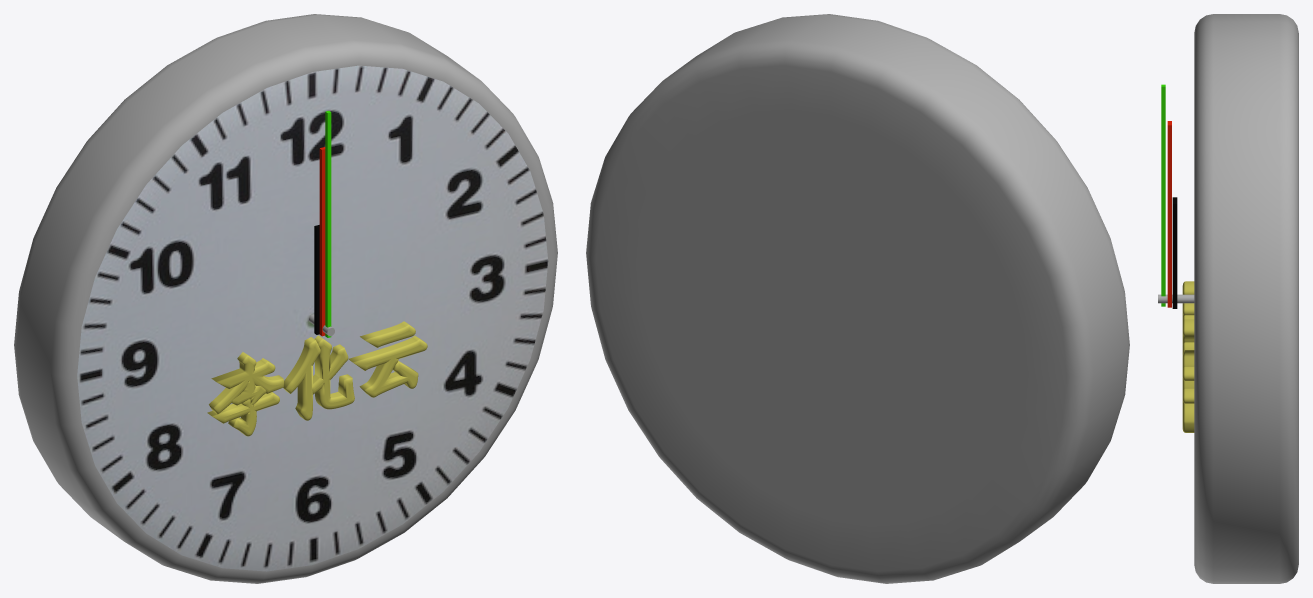
The model's file is naozhong.glb.
The picture shows the model from 3 angles, left to right: view 1: azimuth 30°, elevation 25°; view 2: azimuth 150°, elevation 25°; view 3: azimuth 270°, elevation 25°; orthographic projection. The views are drawn at different scales.
Parts seen in each view (by area): view 1: Cylinder, Text, s, m; view 2: Cylinder; view 3: Cylinder, Text, s, m, h, Cylinder.001.
Boxes of the visible parts, left/top/right/bottom form: Cylinder: left=14, top=14, right=557, bottom=583; Text: left=207, top=321, right=427, bottom=436; s: left=325, top=111, right=331, bottom=337; m: left=319, top=147, right=325, bottom=336; Cylinder: left=586, top=14, right=1129, bottom=583; Cylinder: left=1194, top=14, right=1298, bottom=583; Text: left=1182, top=281, right=1194, bottom=432; s: left=1161, top=84, right=1165, bottom=306; m: left=1167, top=121, right=1171, bottom=307; h: left=1172, top=197, right=1177, bottom=308; Cylinder.001: left=1158, top=294, right=1194, bottom=303.
Bounding box in the file's own units: 1.33 × 1.33 × 0.3286.
6 materials, 1 textured.
